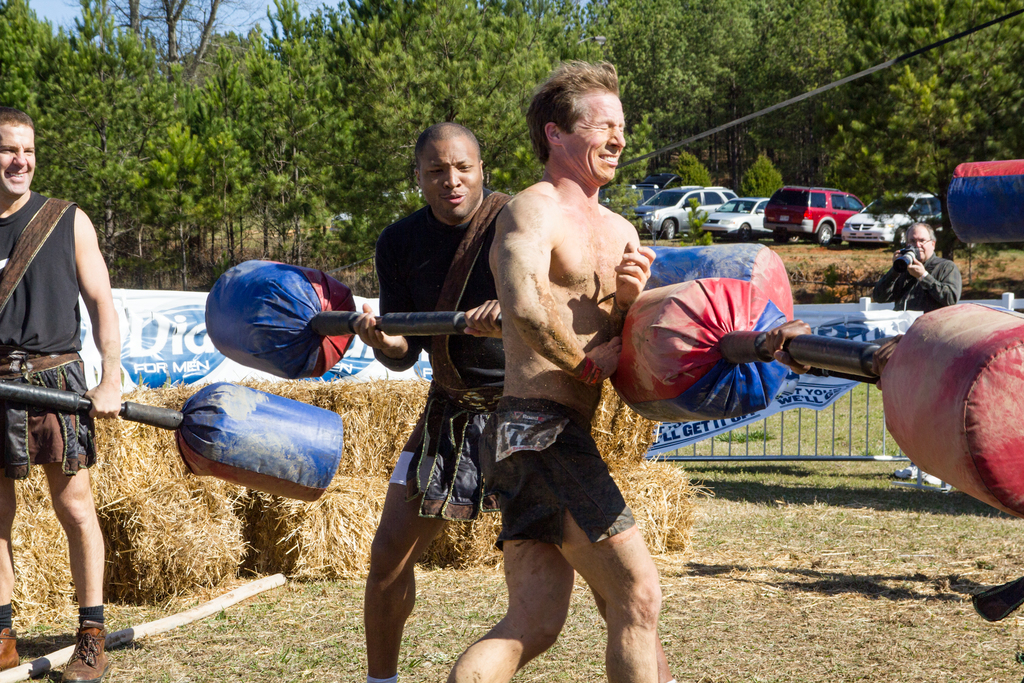Person: (351, 121, 679, 683)
